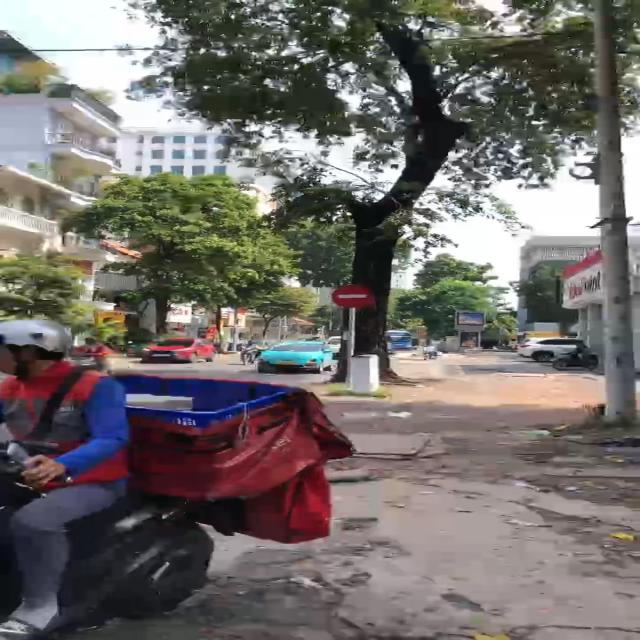Bien bao cam di nguoc chieu: (330, 283, 376, 310)
